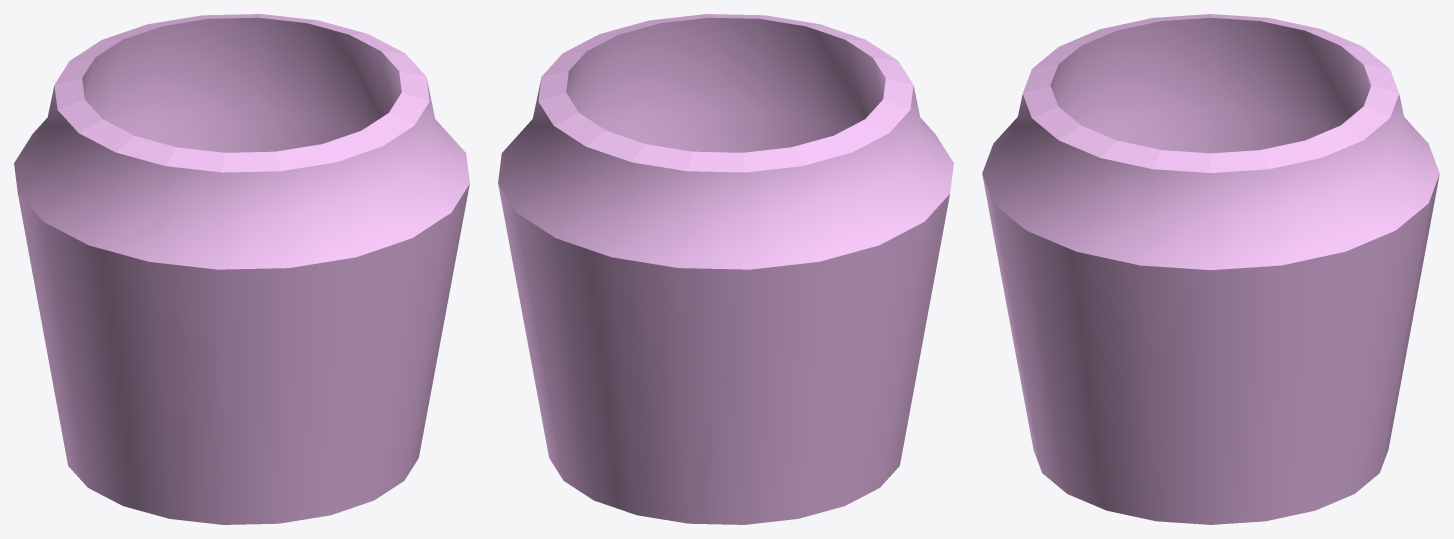
Rendered from jar_tip_remade.fbx.
The picture shows the model from 3 angles, left to right: view 1: azimuth 30°, elevation 25°; view 2: azimuth 150°, elevation 25°; view 3: azimuth 270°, elevation 25°; orthographic projection.
Visible parts, largest first — view 1: polySurface2; view 2: polySurface2; view 3: polySurface2.
Part boxes in pixels (box(x1,y1,x2,y2)): polySurface2: box(14, 14, 469, 524); polySurface2: box(498, 14, 953, 524); polySurface2: box(982, 14, 1439, 524).
Bounding box in the file's own units: 0.4418 × 0.4014 × 0.4418.
